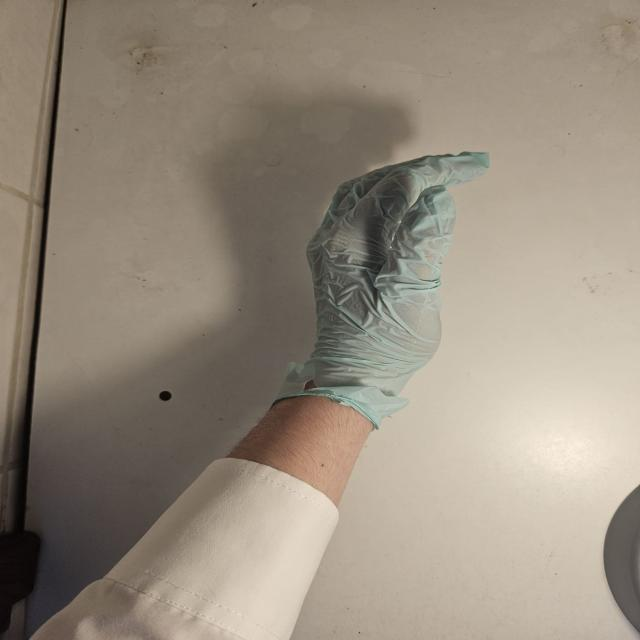gloves_damaged: (272, 150, 490, 424)
